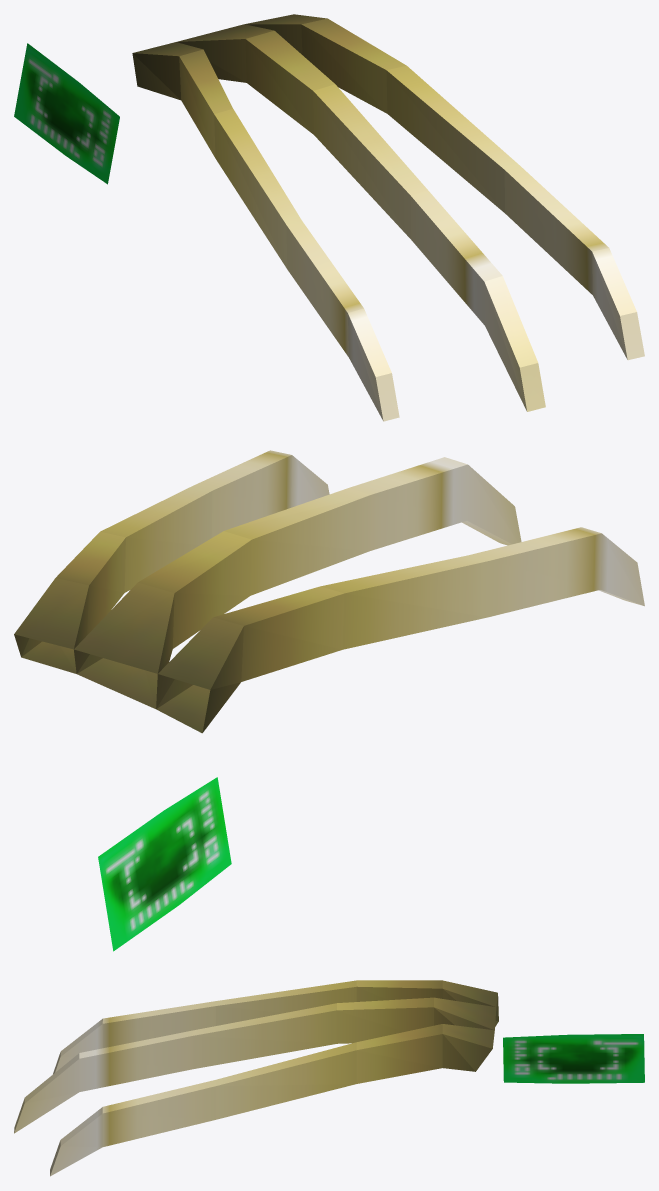
The model's file is three_prong_add.DAE.
The picture shows the model from 3 angles, top to bottom: view 1: azimuth 30°, elevation 25°; view 2: azimuth 150°, elevation 25°; view 3: azimuth 270°, elevation 25°; orthographic projection. The views are drawn at different scales.
Parts seen in each view (by area): view 1: Object01; view 2: Object01; view 3: Object01.
Part boxes in pixels (bbox=[...]): Object01: bbox=[14, 14, 644, 421]; Object01: bbox=[14, 450, 644, 951]; Object01: bbox=[14, 980, 644, 1176].
Size of the model in its own units: 0.2017 by 0.1262 by 0.5568.
